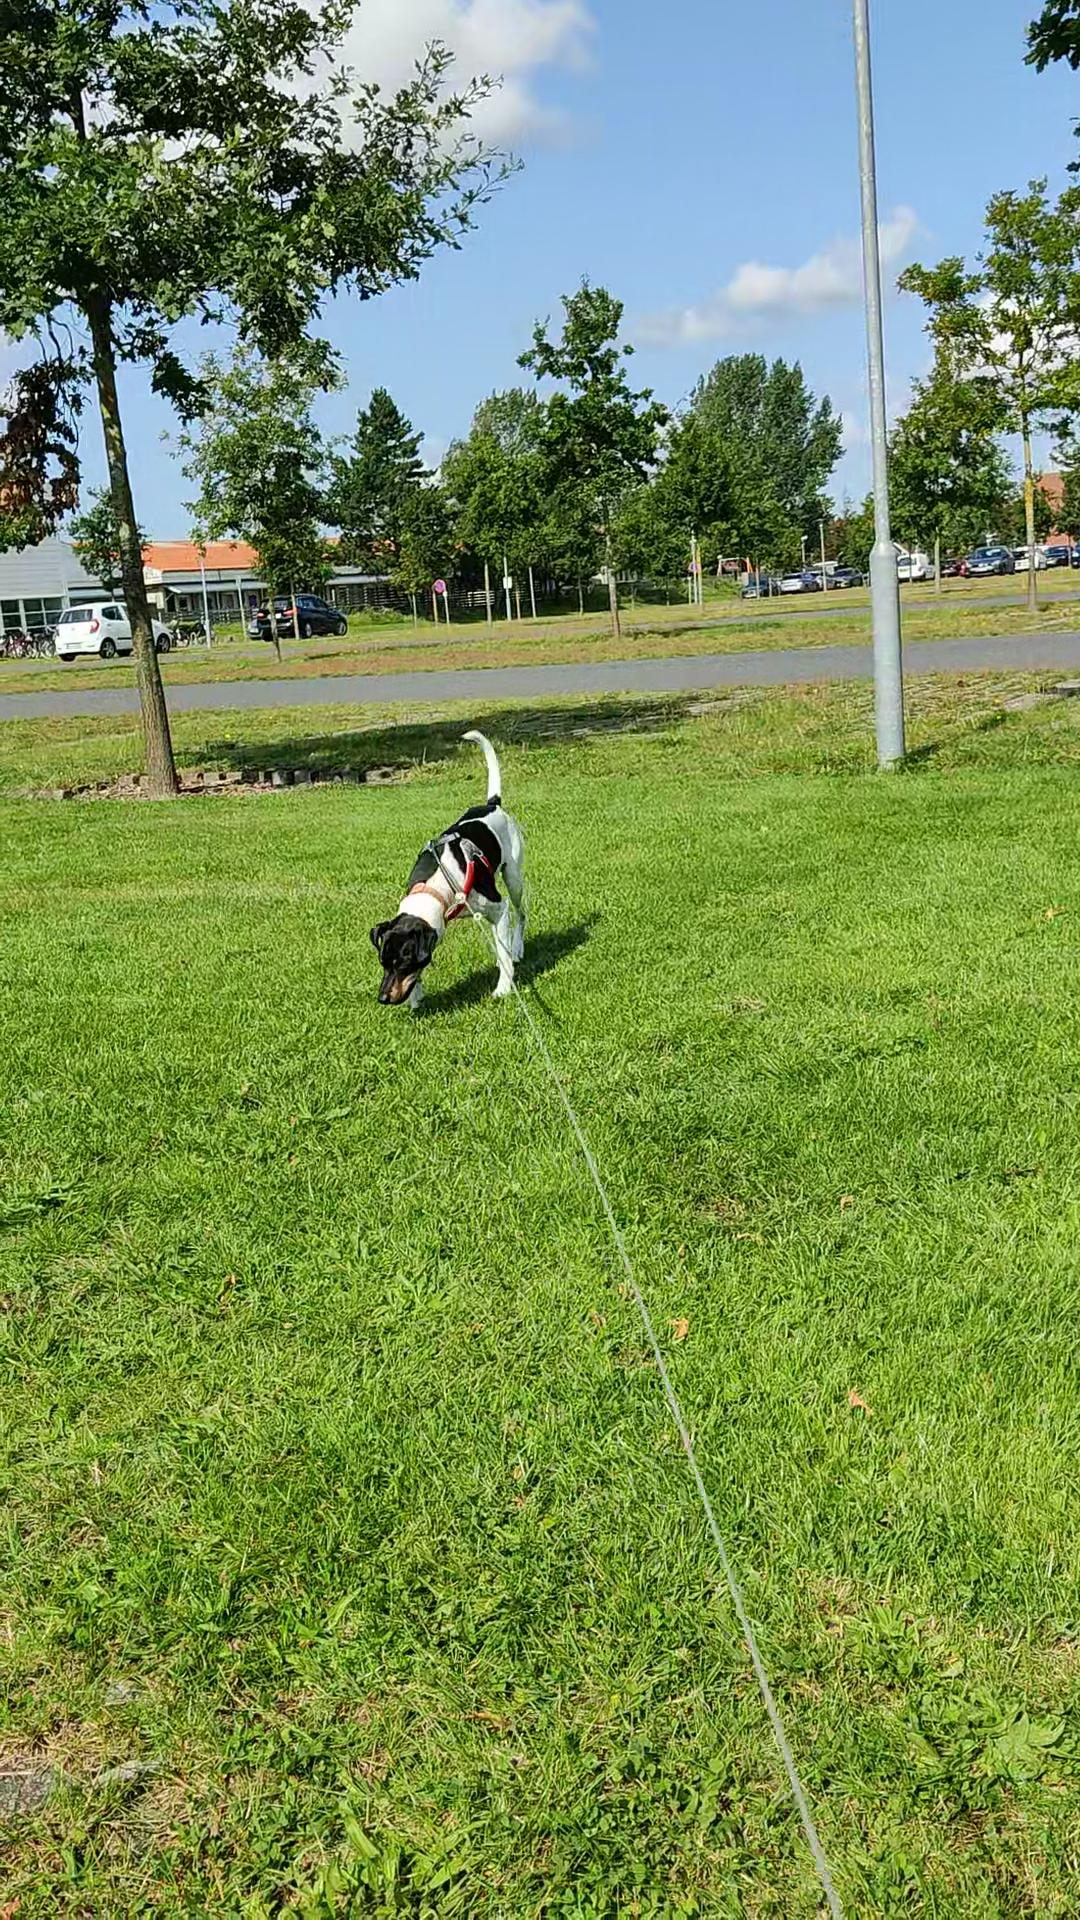Dog: (353, 717, 553, 1022)
